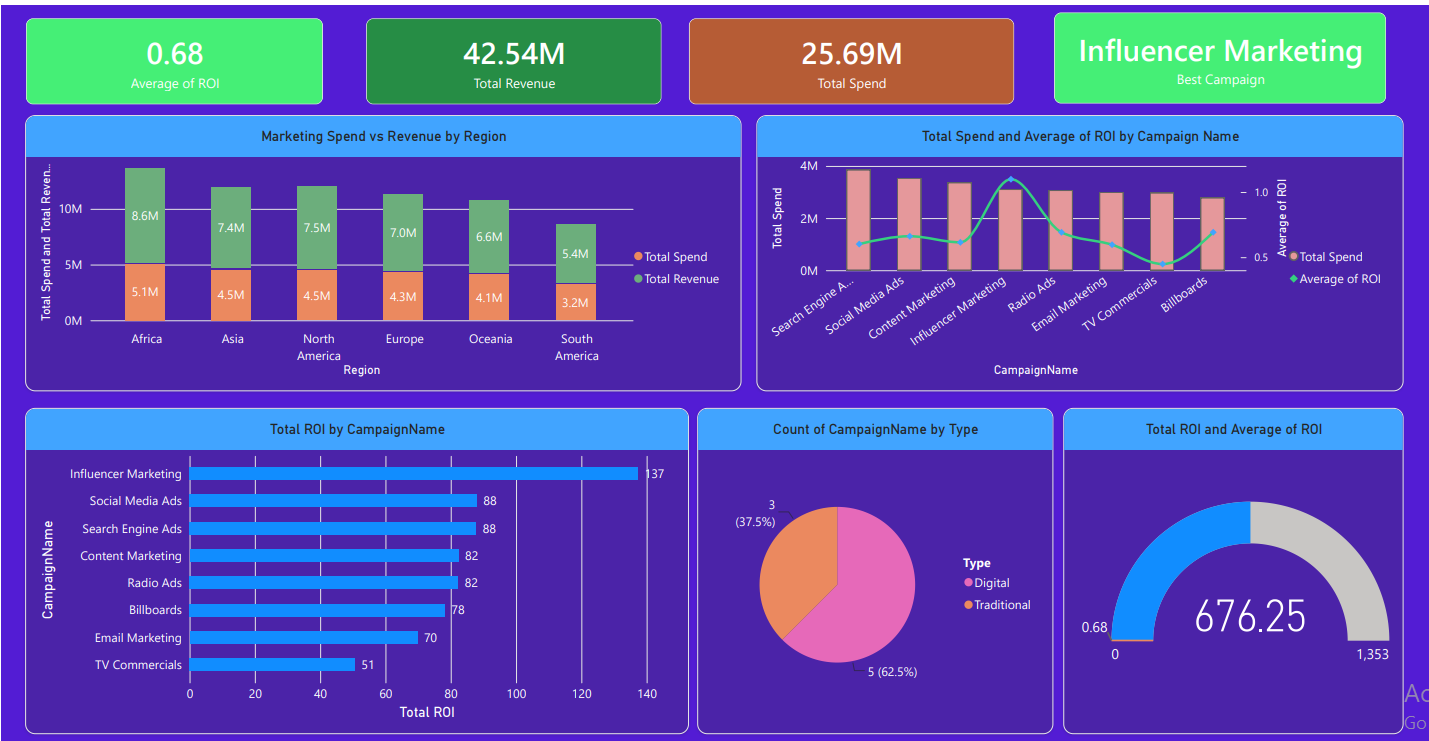

The dashboard page shown, as its layout file describes it:
{"tool":"powerbi","page":{"name":"Page 1","canvas":[1920,1080],"ordinal":0},"visuals":[{"type":"columnChart","title":"Marketing Spend vs Revenue by Region","fields":{"Category":["region performance.Region"],"Y":["marketing campaign performance.Total Spend","marketing campaign performance.Total Revenue"]},"box":[29.2,132.3,858.5,330.8],"z":0},{"type":"lineStackedColumnComboChart","title":"Total Spend and Average of ROI by Campaign Name","fields":{"Category":["marketing campaign performance.CampaignName"],"Y":["marketing campaign performance.Total Spend"],"Y2":["Avg(marketing campaign performance.ROI)"]},"box":[906.2,132.3,775.4,330.8],"z":1000},{"type":"barChart","fields":{"Category":["marketing campaign details.CampaignName"],"Y":["marketing campaign performance.Total ROI"]},"box":[29.2,483.1,795.4,390.8],"z":2000},{"type":"pieChart","fields":{"Category":["marketing campaign details.Type"],"Y":["CountNonNull(marketing campaign details.CampaignName)"]},"box":[835.4,483.1,426.2,390.8],"z":3000},{"type":"gauge","fields":{"TargetValue":["Avg(marketing campaign performance.ROI)"],"Y":["marketing campaign performance.Total ROI"]},"box":[1273.8,483.1,407.7,390.8],"z":4000},{"type":"cardVisual","fields":{"Data":["Avg(marketing campaign performance.ROI)"]},"box":[29.7,15.6,356.2,103.1],"z":5000},{"type":"cardVisual","fields":{"Data":["marketing campaign performance.Total Revenue"]},"box":[437.5,15.6,354.7,103.1],"z":6000},{"type":"cardVisual","fields":{"Data":["marketing campaign performance.Total Spend"]},"box":[825,15.6,390.6,103.1],"z":7000},{"type":"cardVisual","fields":{"Data":["marketing campaign performance.Best Campaign"]},"box":[1262.5,9.4,398.4,109.4],"z":8000}]}

Visuals, with their boxes on the page's 1920x1080 design canvas (x1, y1, x2, y2). These are canvas units, not pixel positions in the 1429x741 screenshot, which may show the page scaled, cropped or inside an application window:
"Marketing Spend vs Revenue by Region" columnChart: [29, 132, 888, 463]
"Total Spend and Average of ROI by Campaign Name" lineStackedColumnComboChart: [906, 132, 1682, 463]
barChart - marketing campaign details.CampaignName x marketing campaign performance.Total ROI: [29, 483, 825, 874]
pieChart - marketing campaign details.Type x CountNonNull(marketing campaign details.CampaignName): [835, 483, 1262, 874]
gauge - Avg(marketing campaign performance.ROI) x marketing campaign performance.Total ROI: [1274, 483, 1682, 874]
cardVisual - Avg(marketing campaign performance.ROI): [30, 16, 386, 119]
cardVisual - marketing campaign performance.Total Revenue: [438, 16, 792, 119]
cardVisual - marketing campaign performance.Total Spend: [825, 16, 1216, 119]
cardVisual - marketing campaign performance.Best Campaign: [1262, 9, 1661, 119]
